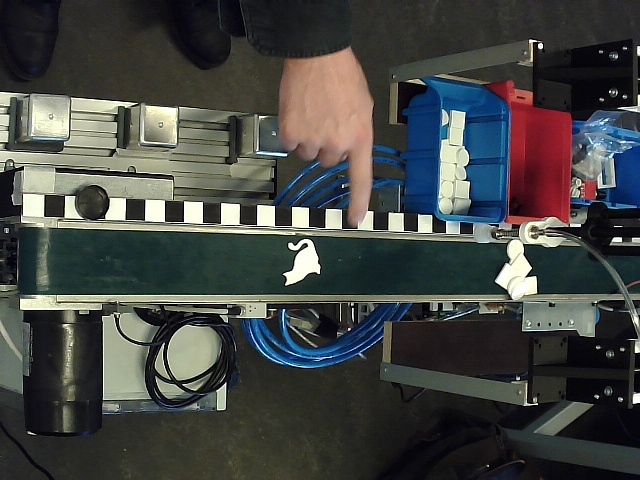cat: (282, 238, 322, 287)
